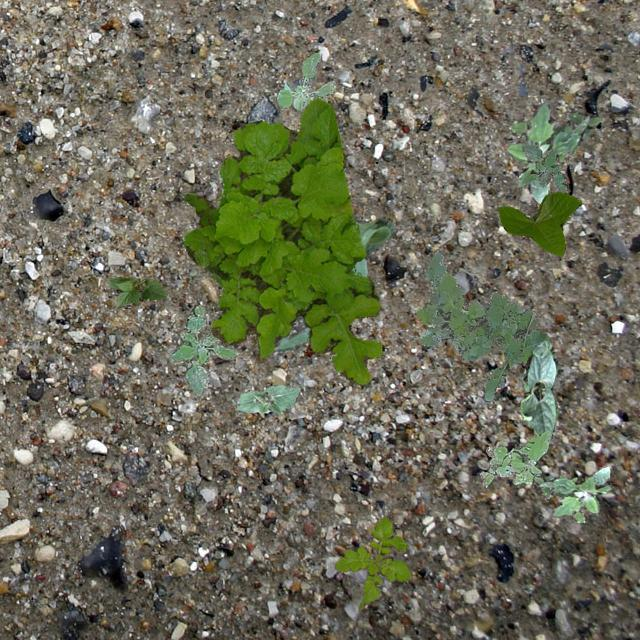crop: (268, 214, 394, 358), (498, 190, 580, 254), (520, 340, 558, 434), (236, 383, 300, 412), (106, 276, 166, 306)
weed: (182, 96, 380, 384), (416, 250, 548, 400), (506, 101, 600, 202), (334, 514, 411, 608), (168, 304, 238, 396), (534, 464, 608, 522), (478, 430, 550, 486), (276, 51, 334, 108), (520, 144, 566, 190), (182, 192, 218, 226)
